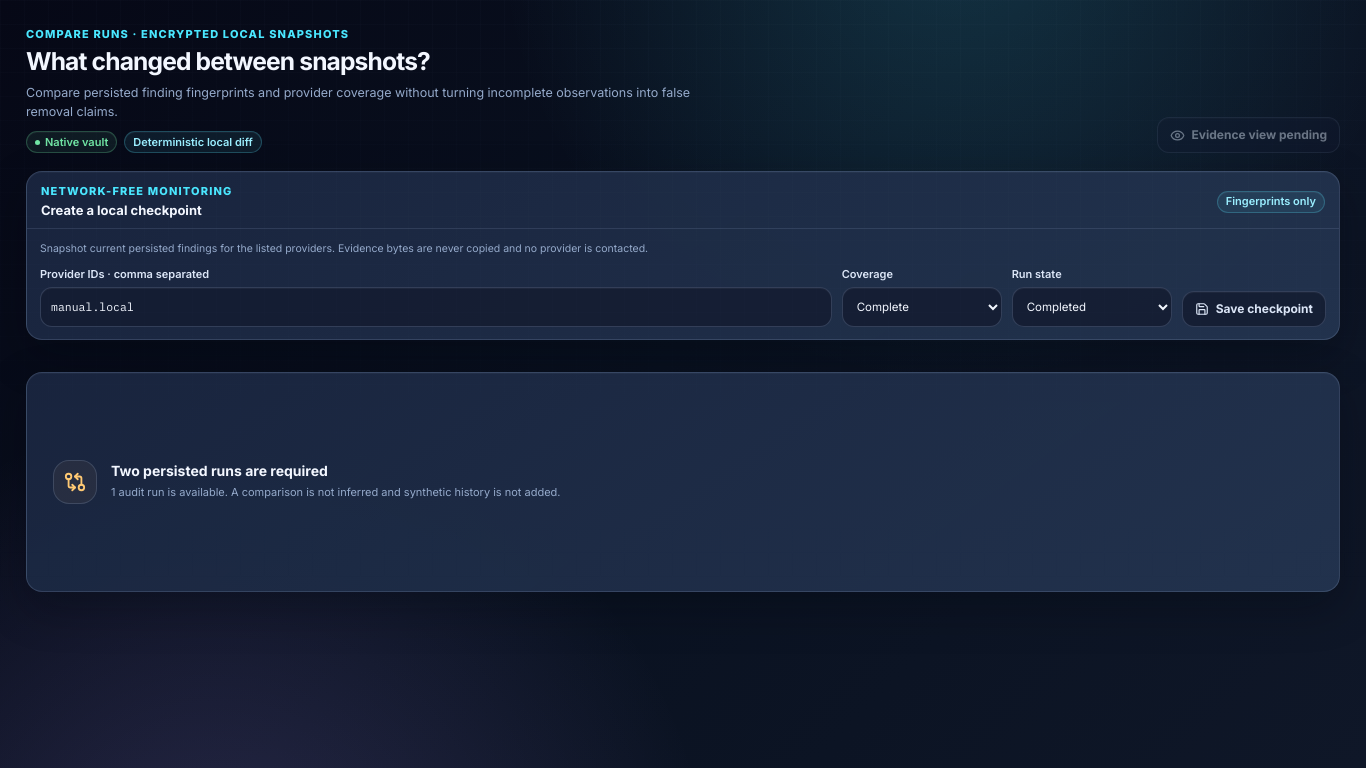
Test: native Phase 6 views › creates a network-free checkpoint and refreshes persisted run metadata
Check: the heading "Two persisted runs are required" is shown, box [111,462,328,479]
Replace the text in the field labelled "Provider IDs · comma separated" with "local-provider.phase6" at (436, 306), box [40,286,832,326]
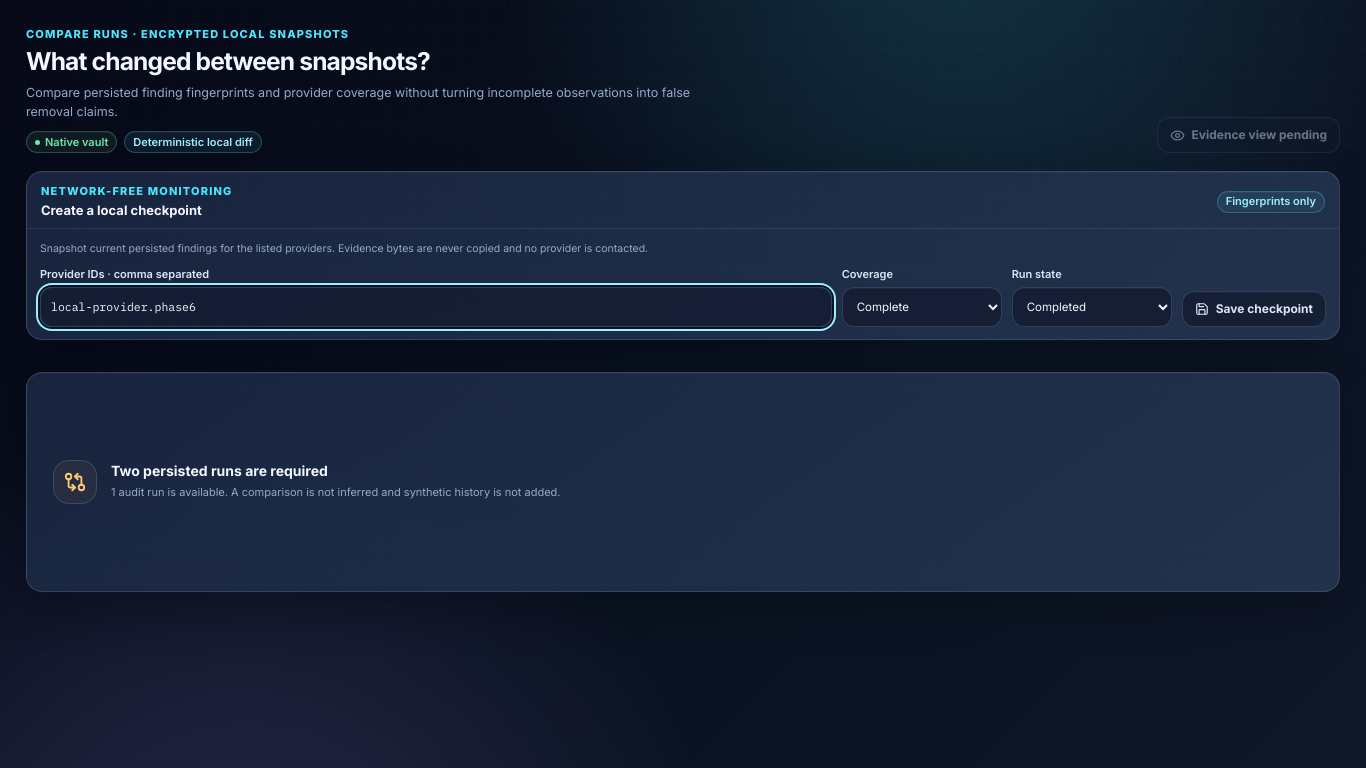
Click the button "Save checkpoint".
click(1254, 308)  # box [1182,290,1326,326]
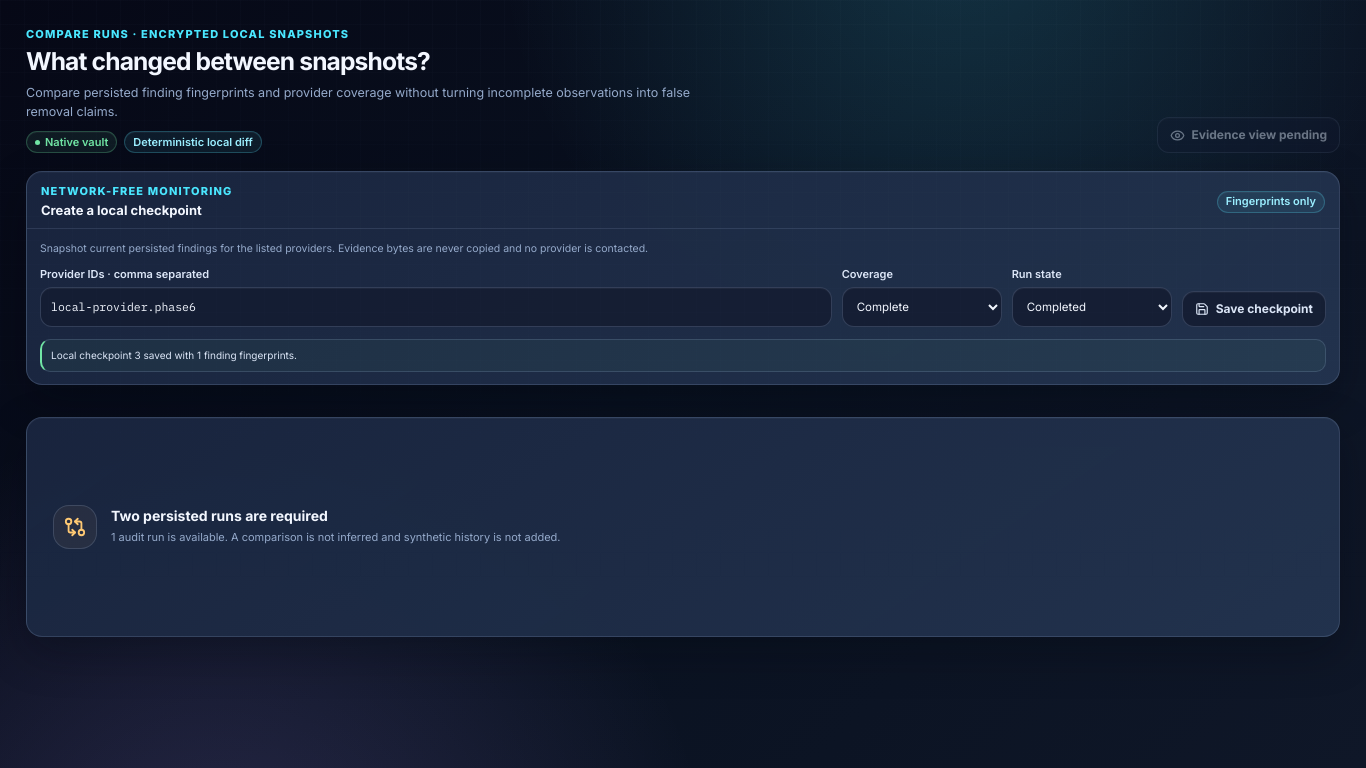
Check: the text "Local checkpoint 3 saved with 1 finding fingerprints." is shown, box [40,338,1326,372]
